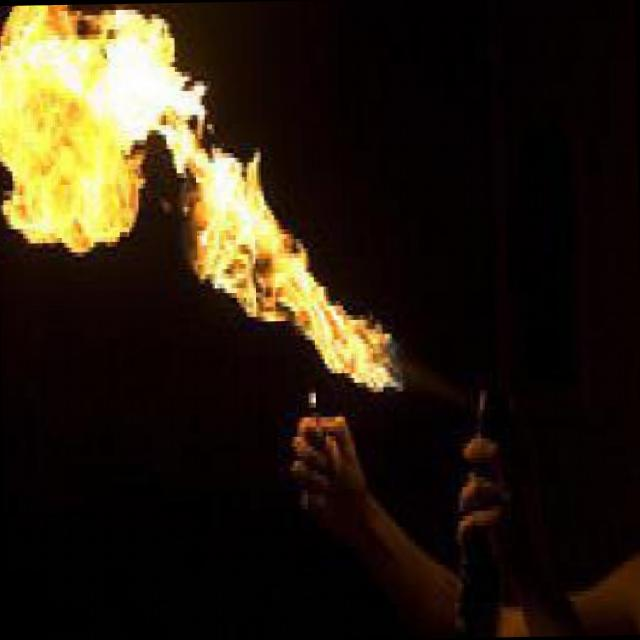fire: (0, 0, 400, 390)
